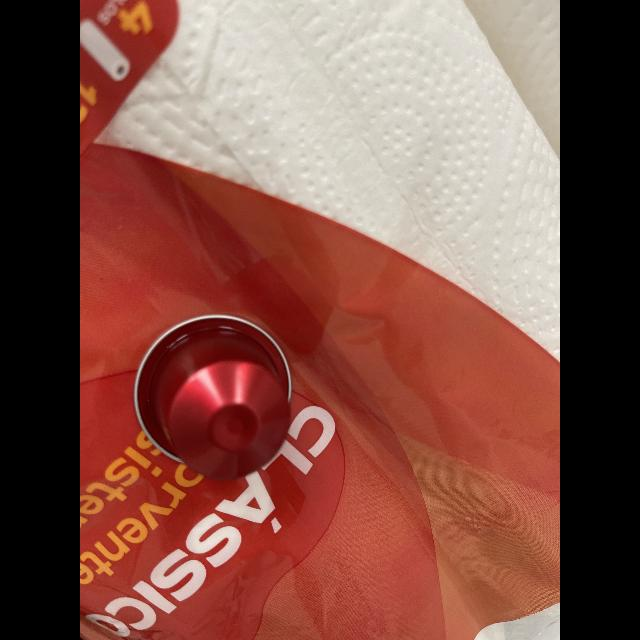intact_capsule: (126, 296, 306, 498)
